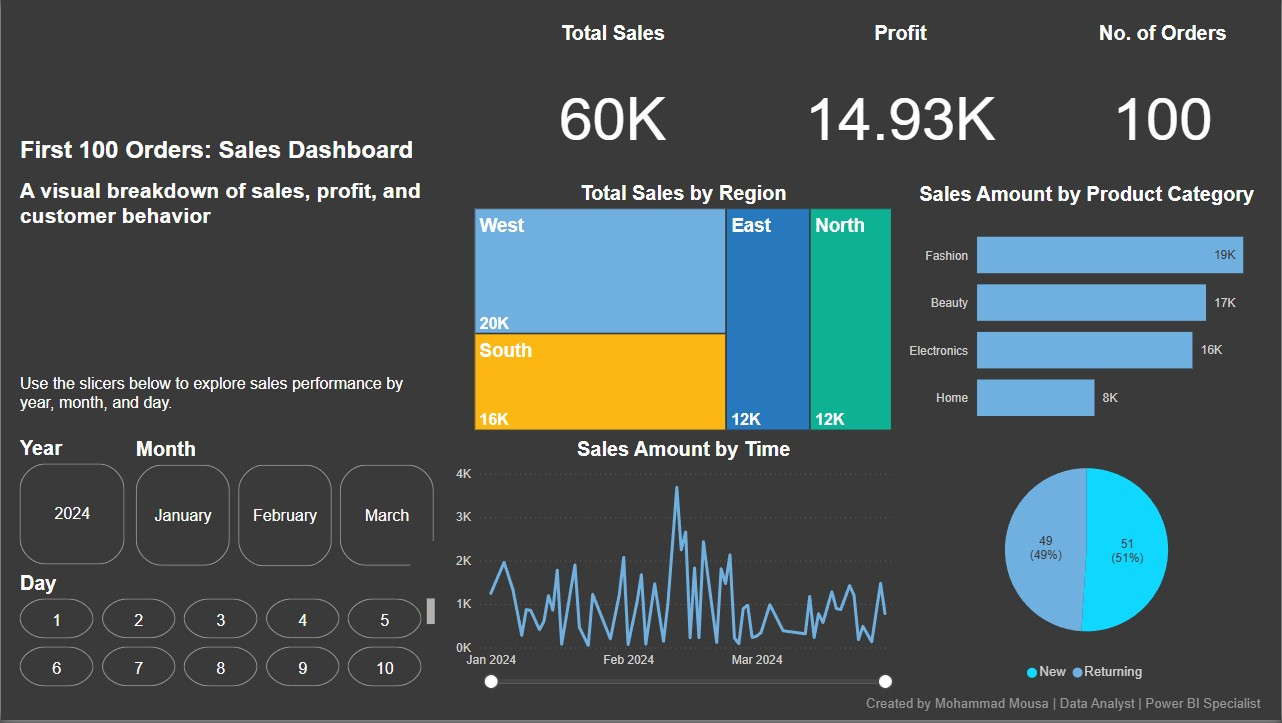

Layout of this report page (visuals, bound fields, positions):
{"tool":"powerbi","page":{"name":"Page 1","canvas":[1280,720],"ordinal":0},"visuals":[{"type":"card","title":"Total Sales","fields":{"Values":["Sum(Sheet1.Sales Amount)"]},"box":[469.6,20.8,283.7,162.6],"z":0},{"type":"card","title":"Profit","fields":{"Values":["Sum(Sheet1.Profit)"]},"box":[753.3,20.8,291,162.6],"z":1000},{"type":"card","title":"No. of Orders","fields":{"Values":["CountNonNull(Sheet1.Order ID)"]},"box":[1044.3,20.8,236,162.6],"z":2000},{"type":"barChart","title":" Sales Amount by Product Category","fields":{"Category":["Sheet1.Product Category"],"Y":["Sum(Sheet1.Sales Amount)"]},"box":[896.3,183.1,378.9,259.4],"z":3000},{"type":"lineChart","title":"Sales Amount by Time","fields":{"Y":["Sum(Sheet1.Sales Amount)"],"Category":["Sheet1.Order Date.Variation.Date Hierarchy.Year"]},"box":[450.1,437.3,465.3,254.3],"z":4000},{"type":"pieChart","fields":{"Category":["Sheet1.Customer Type"],"Y":["CountNonNull(Sheet1.Order ID)"]},"box":[893.8,437.3,384,254.3],"z":5000},{"type":"advancedSlicerVisual","fields":{"Values":["Sheet1.Year"]},"box":[14,436.1,115.7,133.5],"z":6000},{"type":"advancedSlicerVisual","fields":{"Values":["Sheet1.Month"]},"box":[129.7,437.3,310.2,133.5],"z":7000},{"type":"advancedSlicerVisual","fields":{"Values":["DateTable.Day"]},"box":[14,570.8,425.9,120.8],"z":8000},{"type":"treemap","title":"Total Sales by Region","fields":{"Group":["Sheet1.Region"],"Values":["Sum(Sheet1.Sales Amount)"]},"box":[469.1,181.8,427.2,254.3],"z":9000},{"type":"textbox","box":[14,370,425.9,54.7],"z":10000},{"type":"textbox","box":[860.7,691.6,414.5,28],"z":11000},{"type":"textbox","box":[14,130.9,425.9,150],"z":12000}]}

Visuals, with their boxes in screenshot pixels (x1, y1, x2, y2), scaled from the page's 1280x720 canvas onto the 1282x723 screenshot:
"Total Sales" card: bbox=(470, 21, 754, 184)
"Profit" card: bbox=(754, 21, 1046, 184)
"No. of Orders" card: bbox=(1046, 21, 1281, 184)
" Sales Amount by Product Category" barChart: bbox=(898, 184, 1277, 444)
"Sales Amount by Time" lineChart: bbox=(451, 439, 917, 694)
pieChart - Sheet1.Customer Type x CountNonNull(Sheet1.Order ID): bbox=(895, 439, 1280, 694)
advancedSlicerVisual - Sheet1.Year: bbox=(14, 438, 130, 572)
advancedSlicerVisual - Sheet1.Month: bbox=(130, 439, 441, 573)
advancedSlicerVisual - DateTable.Day: bbox=(14, 573, 441, 694)
"Total Sales by Region" treemap: bbox=(470, 183, 898, 438)
textbox: bbox=(14, 372, 441, 426)
textbox: bbox=(862, 694, 1277, 722)
textbox: bbox=(14, 131, 441, 282)
